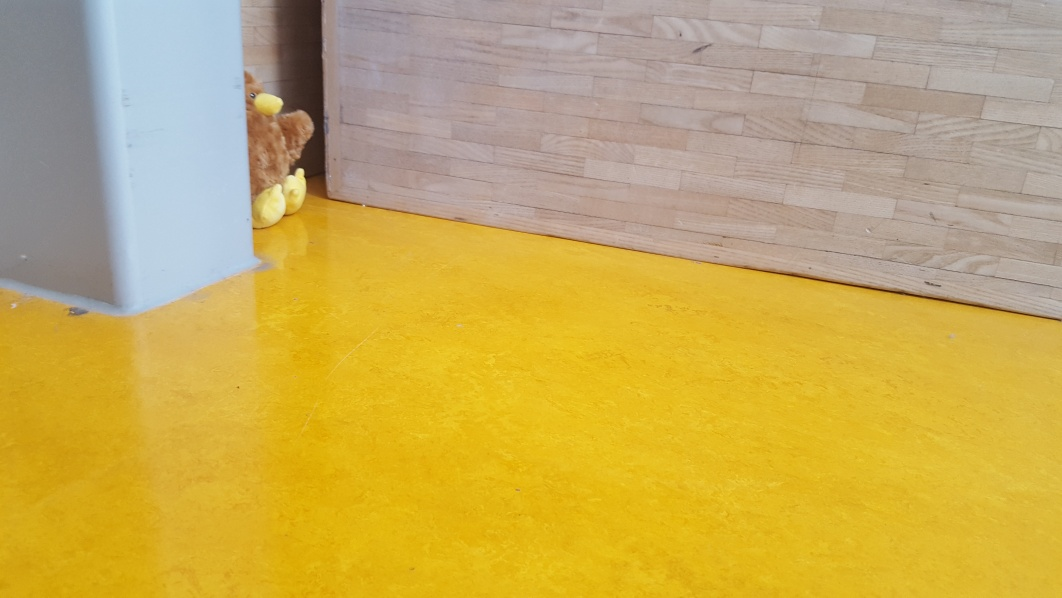chicken: (246, 71, 315, 228)
